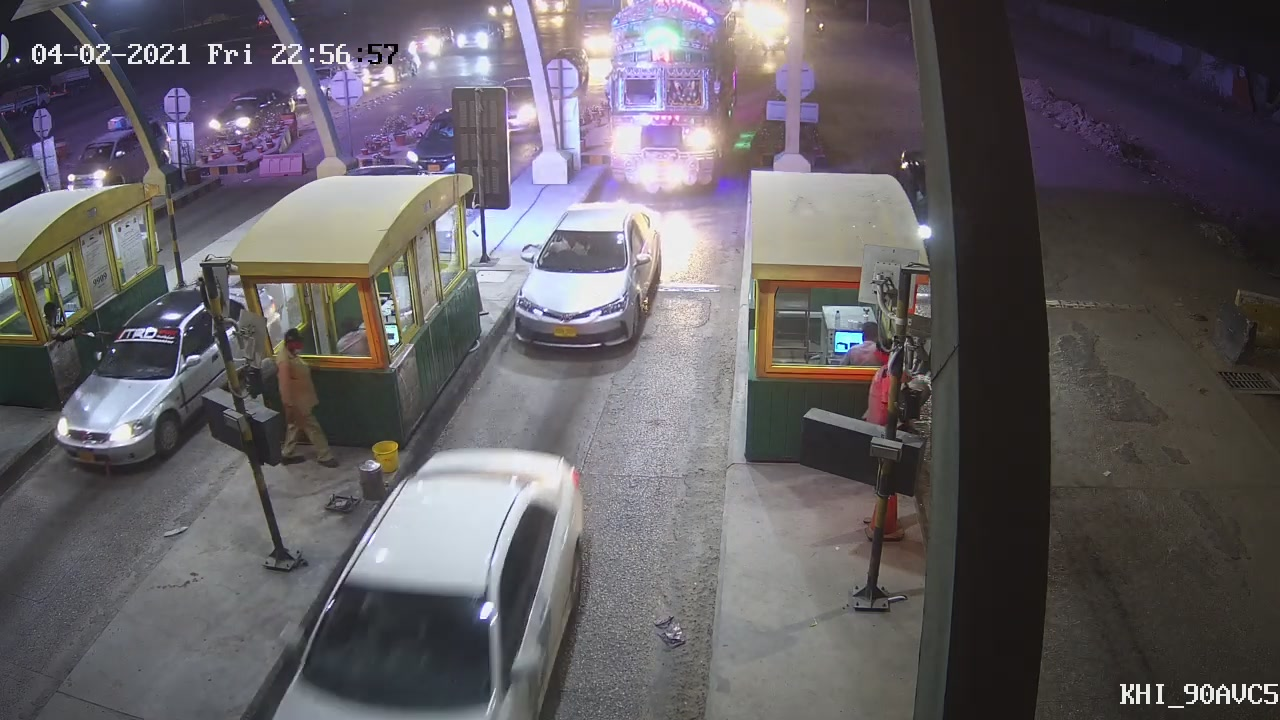F1: (512, 206, 667, 356)
F3: (598, 7, 745, 192)
